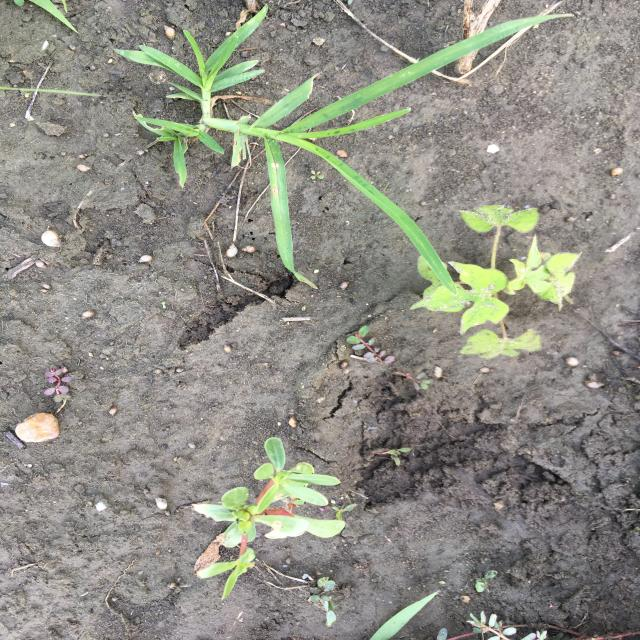Goosegrass: (112, 2, 578, 298)
MorningGlory: (407, 202, 586, 361)
Purslane: (183, 433, 350, 602)
SpottedSpurge: (345, 324, 398, 370)
